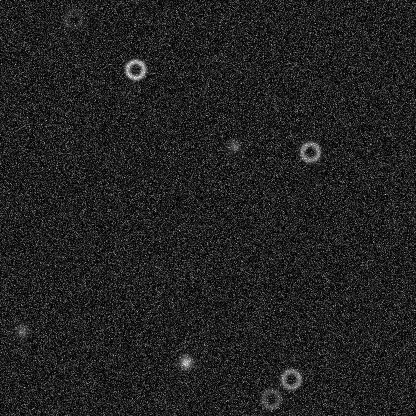Ring: (61, 6, 85, 30), (258, 386, 282, 410), (297, 139, 321, 163), (123, 57, 147, 81), (278, 367, 302, 391)
Spot: (225, 137, 241, 153), (177, 353, 193, 369), (13, 323, 29, 339)
